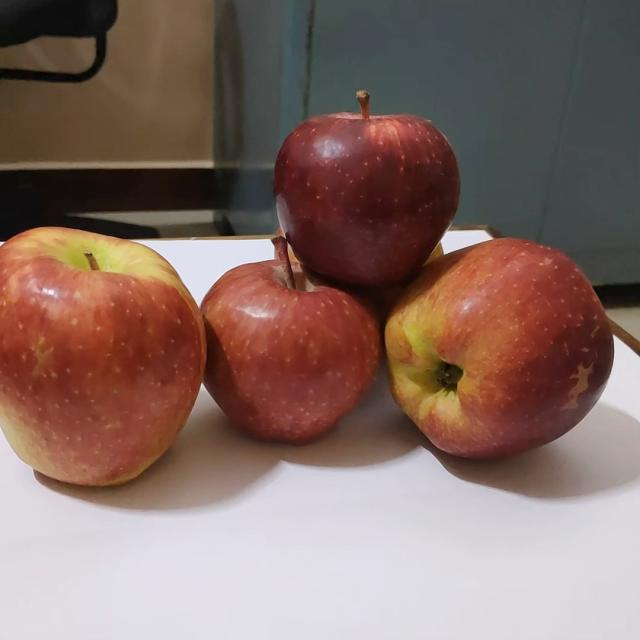apple: (377, 237, 613, 470), (2, 225, 203, 495), (267, 86, 464, 298), (194, 234, 381, 456), (405, 230, 450, 290)
